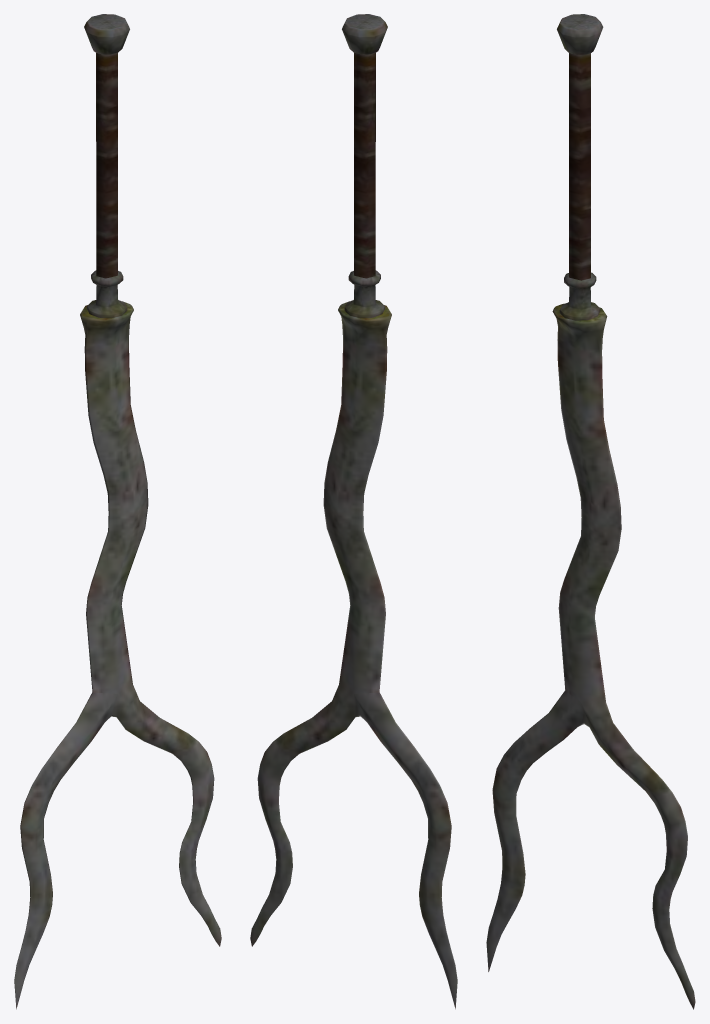
Rendered from weapon-wp_a_0604.glb.
3 renders of one model, left to right at view 1: azimuth 30°, elevation 25°; view 2: azimuth 150°, elevation 25°; view 3: azimuth 330°, elevation 25°, orthographic.
Parts seen in each view (by area): view 1: wp_a_0604_mesh; view 2: wp_a_0604_mesh; view 3: wp_a_0604_mesh.
Part boxes in pixels (x1,y1,x2,y2): wp_a_0604_mesh: [14, 14, 221, 1009]; wp_a_0604_mesh: [250, 14, 457, 1009]; wp_a_0604_mesh: [486, 14, 695, 1009].
Bounding box in the file's own units: 0.3746 × 1.67 × 0.0714.
1 material, 1 textured.
